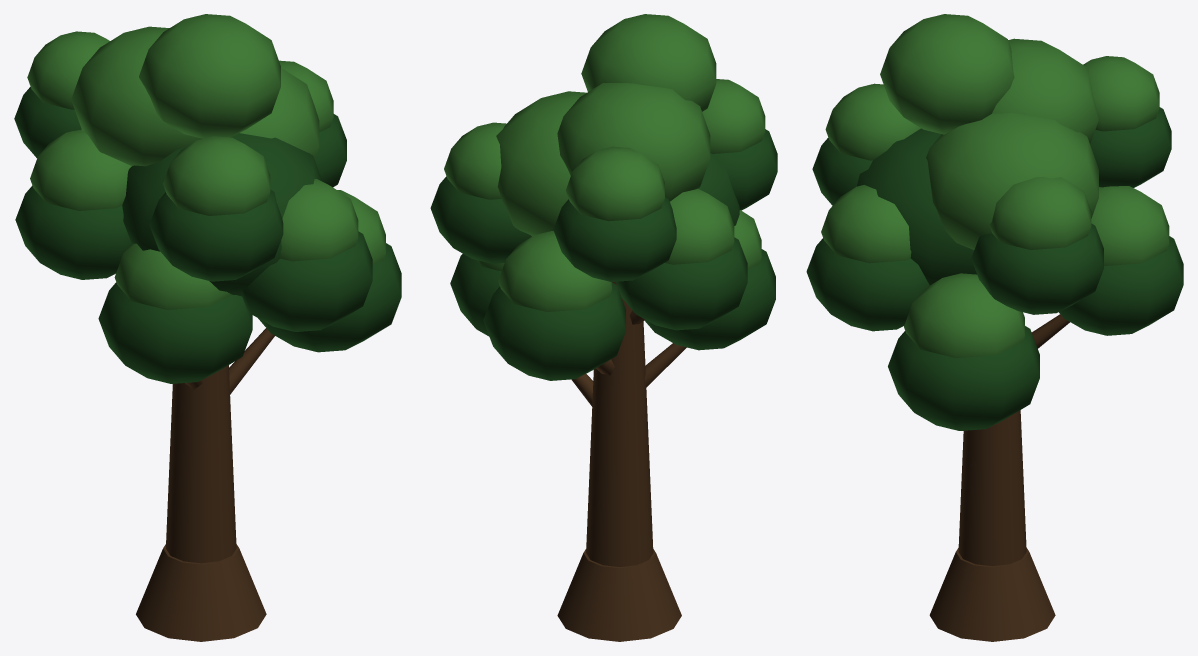
File: realistic_oak_tree.gltf
3 renders of one model, left to right at view 1: azimuth 30°, elevation 25°; view 2: azimuth 150°, elevation 25°; view 3: azimuth 270°, elevation 25°, orthographic. The views are drawn at different scales.
Parts seen in each view (by area): view 1: crown_03, tapered_bark_trunk, leaf_lo_01, crown_02, root_flare, leaf_lo_06, leaf_lo_03, leaf_lo_04, leaf_hi_06, crown_00, leaf_hi_04, leaf_hi_03 (+9 smaller); view 2: tapered_bark_trunk, crown_02, leaf_lo_02, crown_03, root_flare, crown_01, leaf_lo_04, leaf_lo_07, leaf_hi_07, leaf_hi_02, leaf_lo_05, leaf_lo_01 (+8 smaller); view 3: crown_01, crown_03, leaf_lo_00, tapered_bark_trunk, root_flare, leaf_lo_05, leaf_hi_00, crown_00, leaf_lo_03, leaf_lo_02, crown_02, leaf_hi_05 (+7 smaller).
Boxes of the visible parts, left/top/right/bottom form: crown_03: left=139, top=14, right=280, bottom=138; tapered_bark_trunk: left=166, top=365, right=236, bottom=563; leaf_lo_01: left=98, top=282, right=252, bottom=383; crown_02: left=71, top=26, right=202, bottom=166; root_flare: left=136, top=544, right=266, bottom=641; leaf_lo_06: left=149, top=189, right=283, bottom=281; leaf_lo_03: left=242, top=231, right=372, bottom=331; leaf_lo_04: left=15, top=185, right=131, bottom=279; leaf_hi_06: left=163, top=136, right=270, bottom=215; crown_00: left=122, top=133, right=322, bottom=296; leaf_hi_04: left=30, top=129, right=131, bottom=210; leaf_hi_03: left=280, top=179, right=358, bottom=261; tapered_bark_trunk: left=586, top=281, right=653, bottom=566; crown_02: left=557, top=83, right=710, bottom=201; leaf_lo_02: left=483, top=282, right=625, bottom=380; crown_03: left=581, top=14, right=716, bottom=111; root_flare: left=557, top=549, right=681, bottom=641; crown_01: left=496, top=91, right=586, bottom=236; leaf_lo_04: left=616, top=237, right=747, bottom=330; leaf_lo_07: left=553, top=197, right=676, bottom=281; leaf_hi_07: left=565, top=146, right=664, bottom=221; leaf_hi_02: left=498, top=231, right=611, bottom=311; leaf_lo_05: left=430, top=176, right=531, bottom=263; leaf_lo_01: left=644, top=249, right=775, bottom=350; crown_01: left=926, top=113, right=1098, bottom=249; crown_03: left=880, top=14, right=1014, bottom=134; leaf_lo_00: left=888, top=326, right=1039, bottom=430; tapered_bark_trunk: left=958, top=410, right=1026, bottom=566; root_flare: left=929, top=548, right=1055, bottom=641; leaf_lo_05: left=971, top=223, right=1103, bottom=314; leaf_hi_00: left=904, top=273, right=1024, bottom=357; crown_00: left=857, top=128, right=976, bottom=285; leaf_lo_03: left=806, top=238, right=929, bottom=331; leaf_lo_02: left=1059, top=236, right=1183, bottom=335; crown_02: left=992, top=38, right=1098, bottom=144; leaf_hi_05: left=989, top=177, right=1091, bottom=249.
Size of the model in its own units: 4.21 by 7.42 by 4.31.
